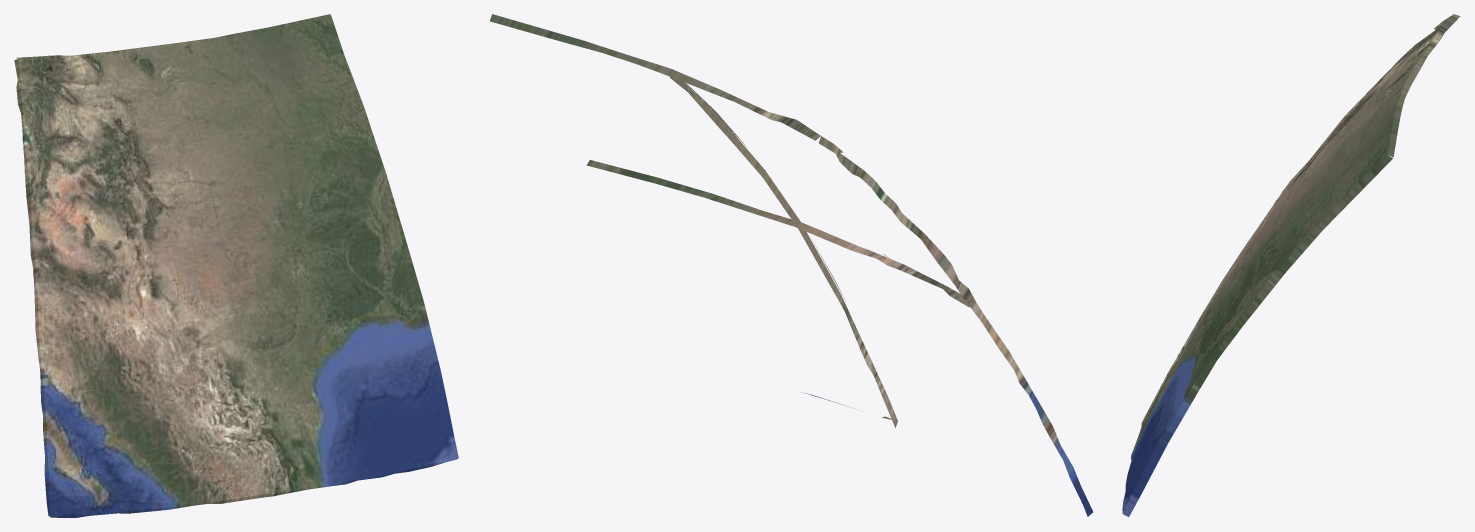
The picture shows the model from 3 angles, left to right: view 1: azimuth 30°, elevation 25°; view 2: azimuth 150°, elevation 25°; view 3: azimuth 270°, elevation 25°; orthographic projection. The views are drawn at different scales.
Size of the model in its own units: 2288147 by 2112332 by 1764024.
1 material, 1 textured.
